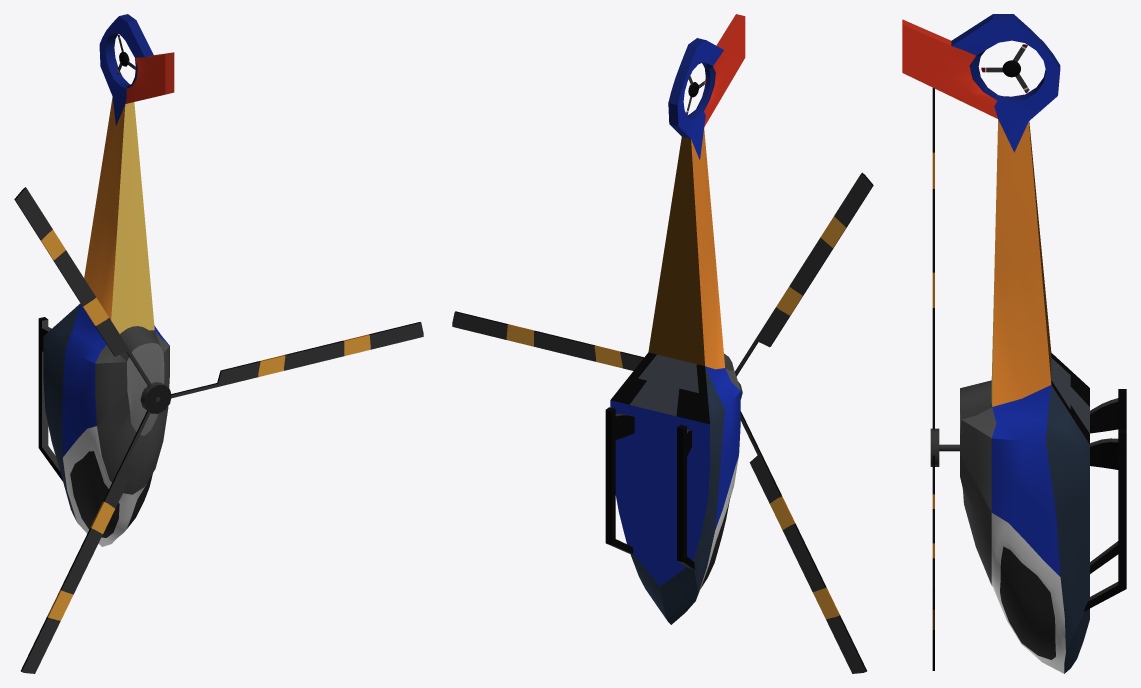
The model's file is heli3.gltf.
3 renders of one model, left to right at view 1: azimuth 30°, elevation 25°; view 2: azimuth 150°, elevation 25°; view 3: azimuth 270°, elevation 25°, orthographic. The views are drawn at different scales.
Visible parts, largest first — view 1: Body, Rotor; view 2: Body, Rotor; view 3: Body, Rotor, Rotor_Back.
Part boxes in pixels (x1,y1,x2,y2): Body: [38, 14, 174, 546]; Rotor: [14, 187, 423, 673]; Body: [605, 14, 745, 624]; Rotor: [452, 172, 873, 673]; Body: [902, 14, 1126, 673]; Rotor: [930, 88, 959, 670]; Rotor_Back: [981, 44, 1029, 93].
Bounding box in the file's own units: 8.23 × 11.64 × 3.26.
1 material, 1 textured.
